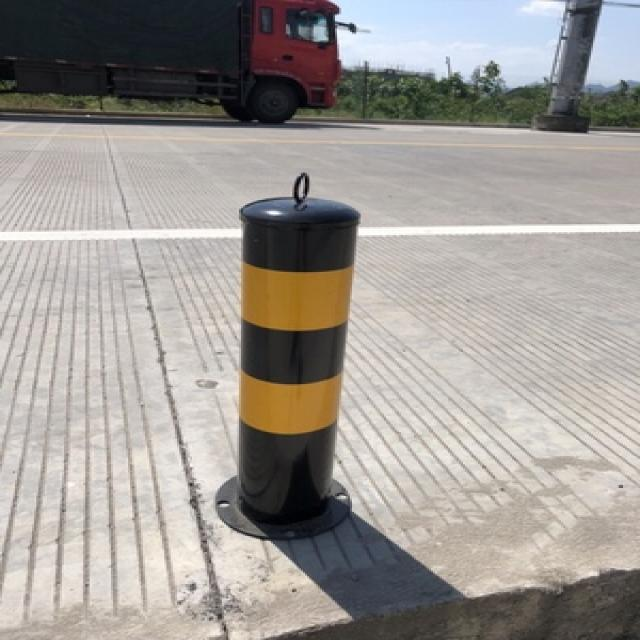truck: (0, 0, 358, 123)
warning_column: (220, 169, 354, 522)
